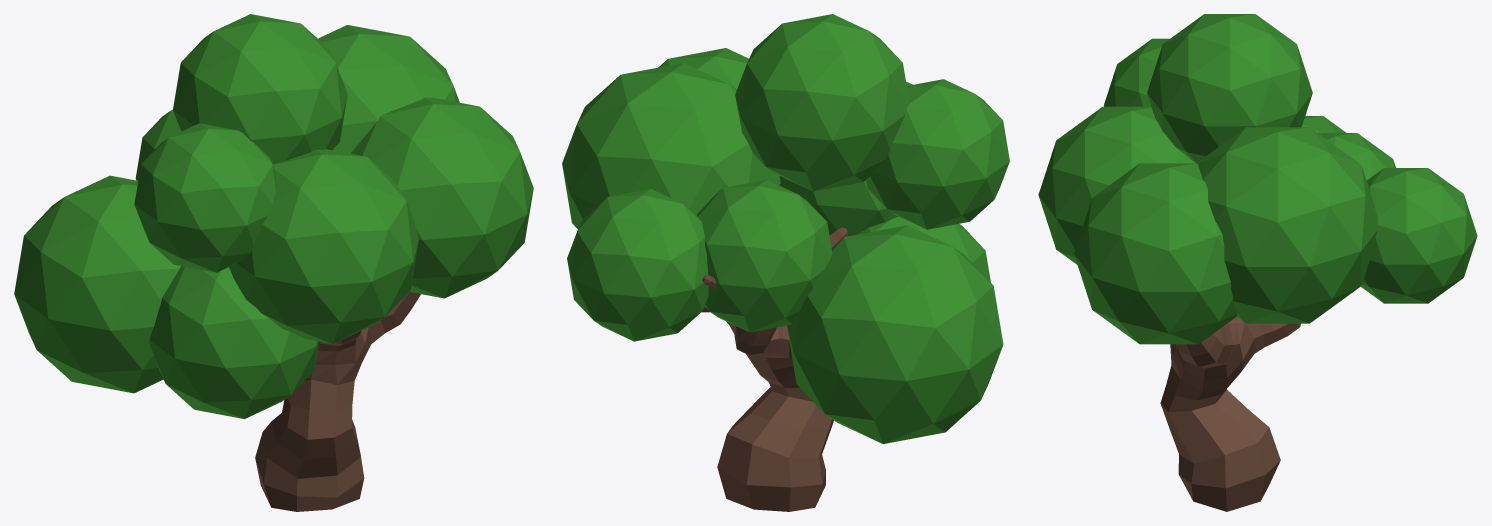
File: tree.fbx
The picture shows the model from 3 angles, left to right: view 1: azimuth 30°, elevation 25°; view 2: azimuth 150°, elevation 25°; view 3: azimuth 270°, elevation 25°; orthographic projection. The views are drawn at different scales.
Visible parts, largest first — view 1: tree; view 2: tree; view 3: tree.
Part boxes in pixels (x1,y1,x2,y2): tree: [14, 14, 533, 511]; tree: [562, 14, 1009, 511]; tree: [1038, 14, 1477, 511].
Bounding box in the file's own units: 814 × 907 × 793.
